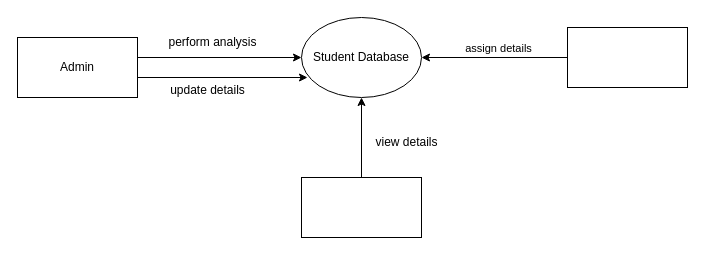
The diagram is 705 pixels wide and 255 high, and some of its shapes have lost their labels. Each missing label, with the box of its shape:
Student: (300, 176, 422, 238)
Teacher: (566, 26, 688, 88)
